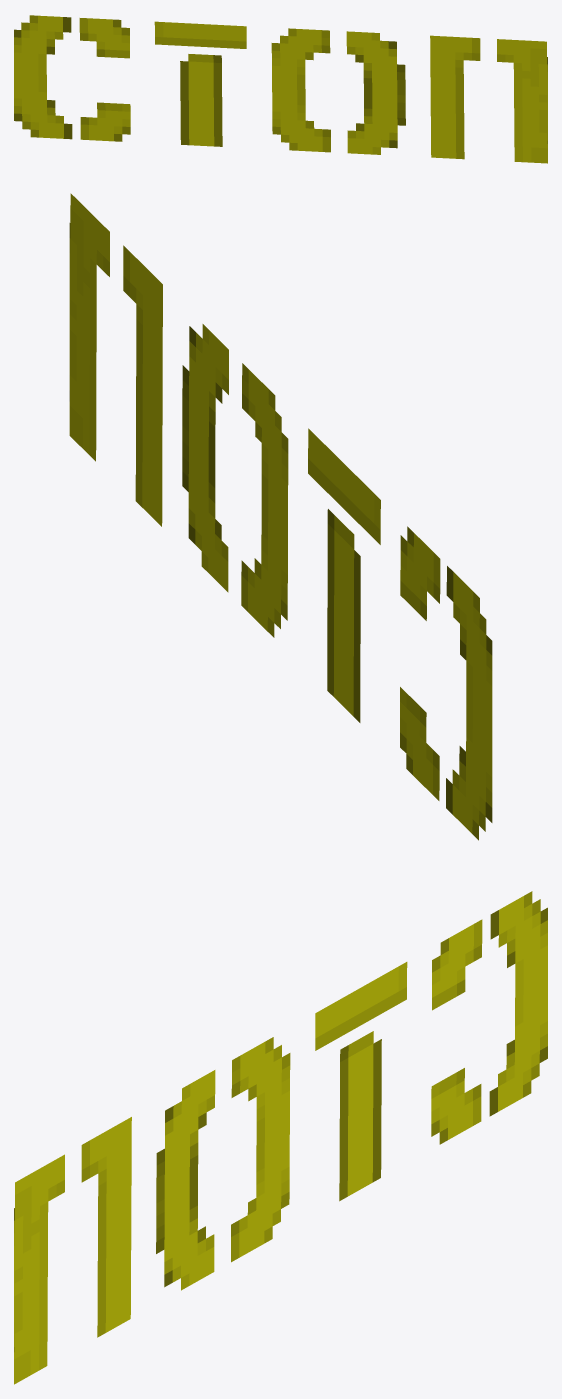
Rendered from Dam_Alpha_80.glb.
The picture shows the model from 3 angles, top to bottom: view 1: azimuth 30°, elevation 25°; view 2: azimuth 150°, elevation 25°; view 3: azimuth 270°, elevation 25°; orthographic projection. The views are drawn at different scales.
Visible parts, largest first — view 1: Dam_Alpha_80; view 2: Dam_Alpha_80; view 3: Dam_Alpha_80.
Part boxes in pixels (x1=…): Dam_Alpha_80: x1=14, y1=15, x2=547, y2=163; Dam_Alpha_80: x1=69, y1=193, x2=492, y2=840; Dam_Alpha_80: x1=14, y1=891, x2=547, y2=1384.
Size of the model in its own units: 4 by 1.25 by 3.
Materials: 1 (1 with a texture image).
